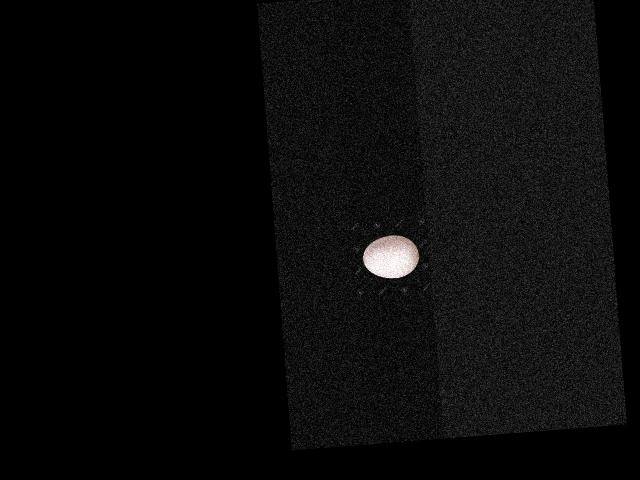egg: (362, 234, 420, 280)
